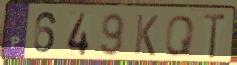4: (64, 11, 91, 58)
6: (33, 10, 58, 57)
9: (99, 11, 127, 58)
K: (132, 12, 160, 58)
Q: (163, 14, 196, 58)
T: (202, 12, 228, 60)
